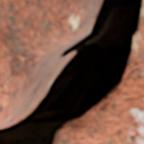broken_brick: (55, 7, 143, 143), (0, 0, 85, 110)
crack: (0, 0, 143, 143)
